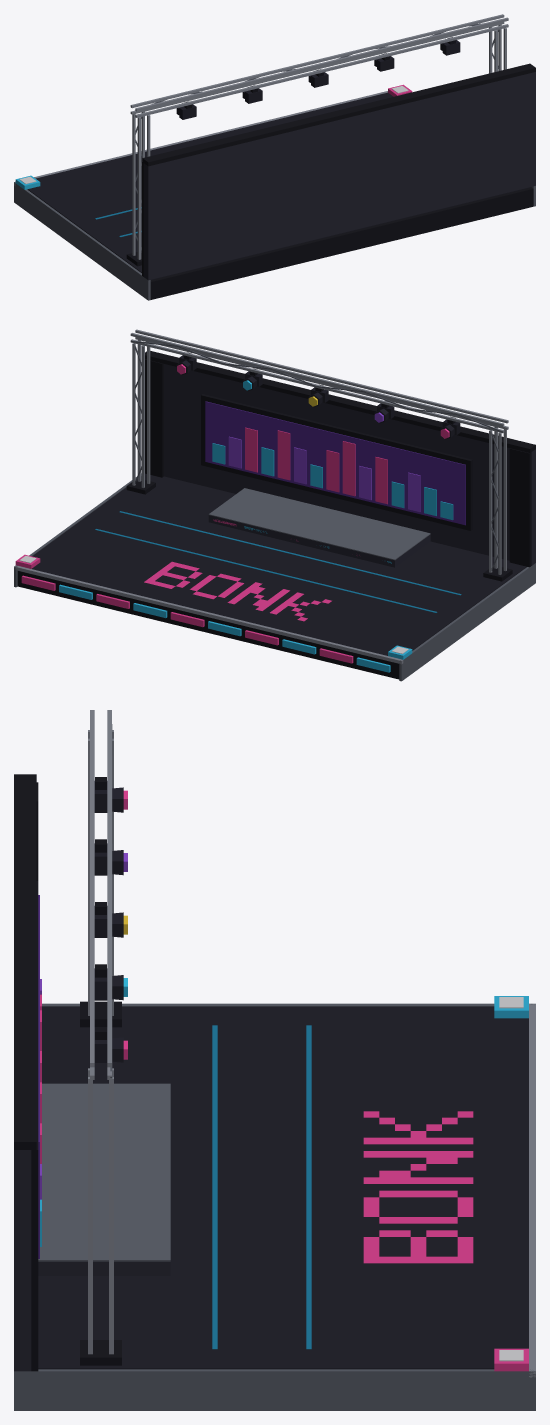
Rendered from Decor_DJStage_BigStage.fbx.
3 renders of one model, top to bottom at view 1: azimuth 30°, elevation 25°; view 2: azimuth 150°, elevation 25°; view 3: azimuth 270°, elevation 25°, orthographic. The views are drawn at different scales.
Parts seen in each view (by area): view 1: BigStage_Body; view 2: BigStage_Body; view 3: BigStage_Body.
Part boxes in pixels (<box>): BigStage_Body: <box>14,14,535,300</box>; BigStage_Body: <box>14,329,535,681</box>; BigStage_Body: <box>14,710,535,1410</box>.
Bounding box in the file's own units: 50 × 21.6 × 30.
